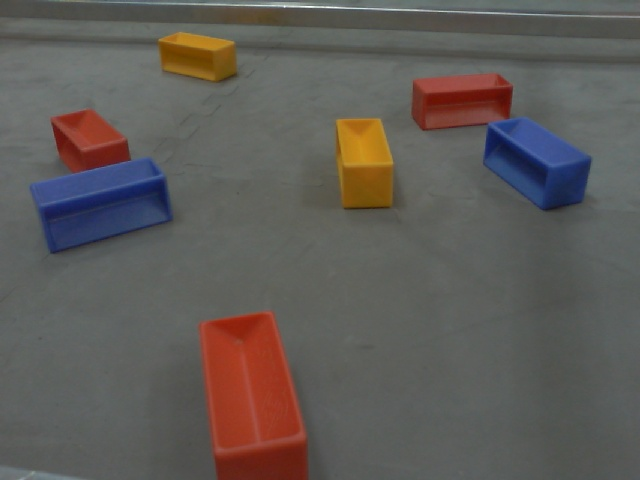BlueSample: (24, 156, 175, 261), (480, 113, 593, 214)
RedSample: (198, 309, 313, 480), (406, 70, 516, 131), (46, 107, 131, 176)
YellowSample: (329, 110, 398, 215), (155, 28, 239, 84)
